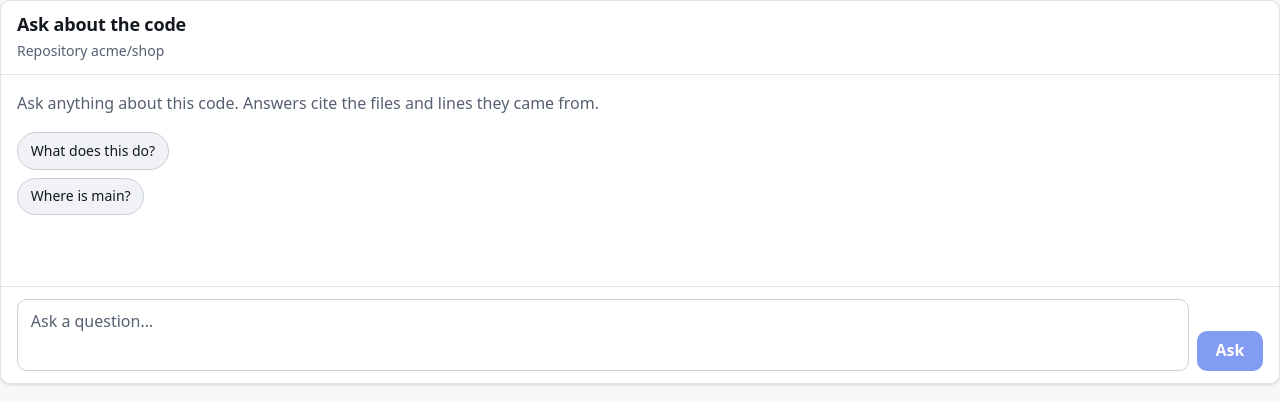
Test: ChatPanel › shows an error and puts the question back so it can be retried
Type "my question" into the text box named "Your question" at (603, 335), box x1=17 y1=299 x2=1189 y2=371
Then press Enter
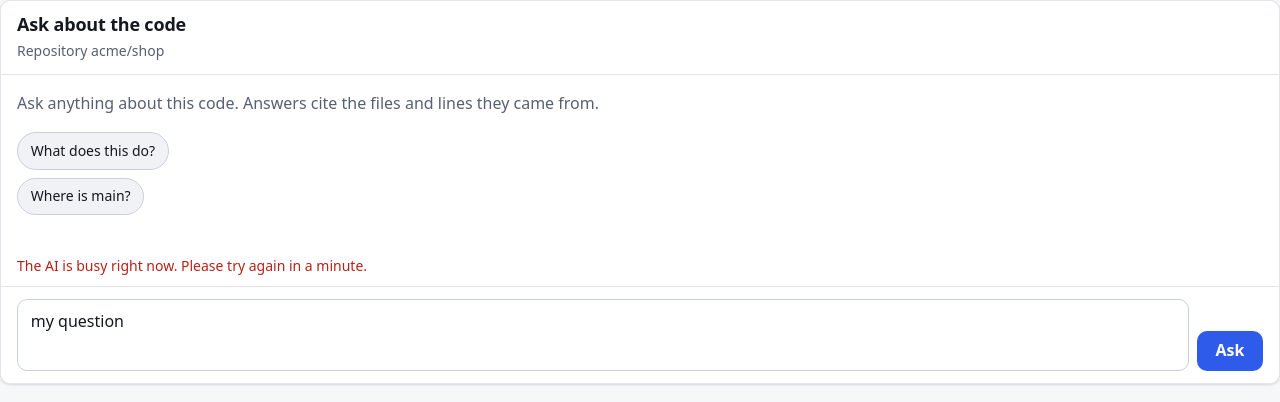
Expected: the message shows "The AI is busy right now", x1=17 y1=256 x2=367 y2=275
